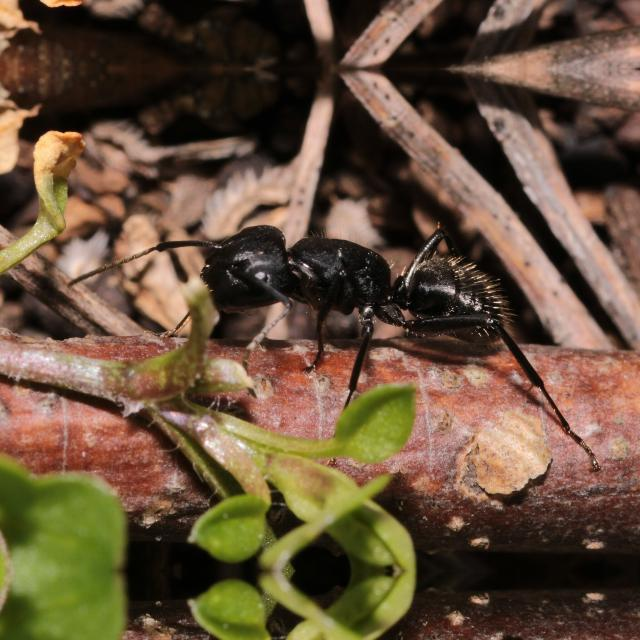Camponotus: (125, 177, 599, 411)
